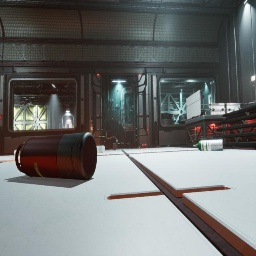0: (193, 139, 223, 151), (96, 146, 105, 152), (14, 150, 21, 156), (232, 107, 239, 112)
FireAlarm ,: (0, 114, 2, 120), (147, 127, 148, 132)
FireExtinguisher ]: (140, 144, 149, 148)
NitrogenTank ,: (15, 132, 97, 181), (200, 110, 207, 116), (112, 143, 117, 150), (196, 115, 200, 118)
SafetySwitchPanel ,: (90, 120, 95, 137), (208, 94, 212, 108), (225, 107, 227, 114)
